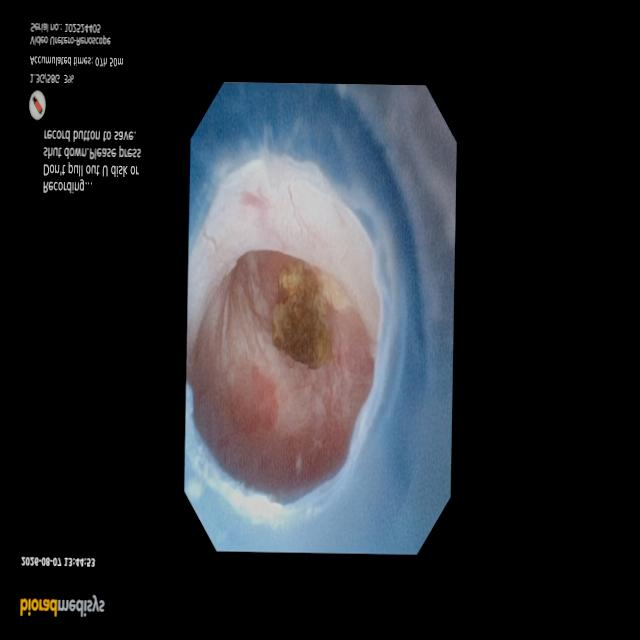stone-new: (272, 261, 331, 369)
